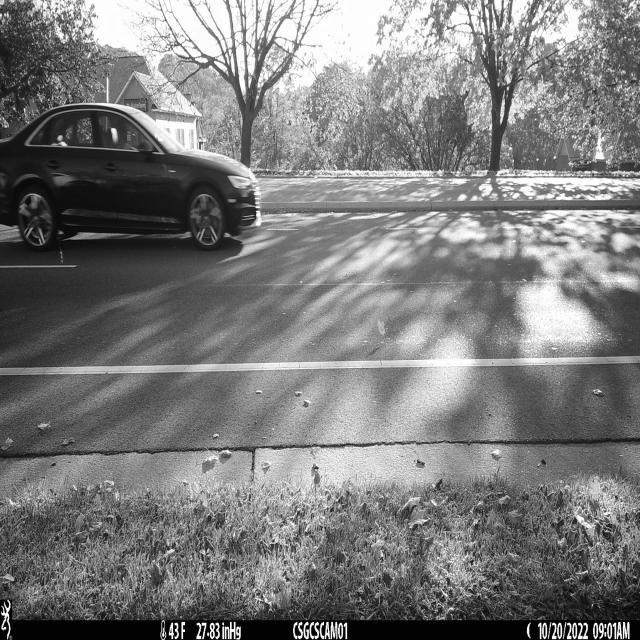Sedan: (0, 103, 264, 252)
